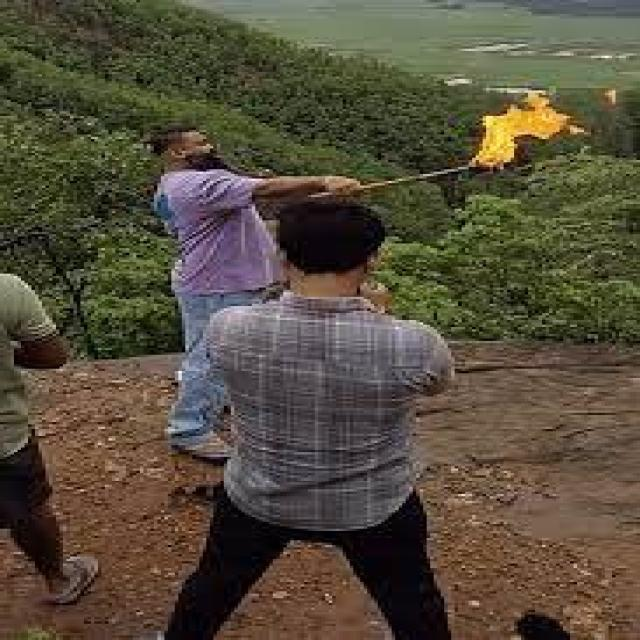fire: (470, 93, 569, 170)
